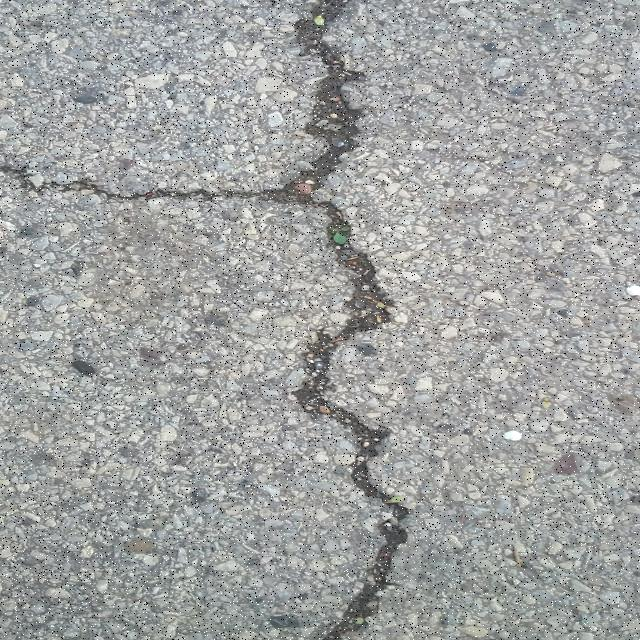Crack: (0, 0, 413, 640)
